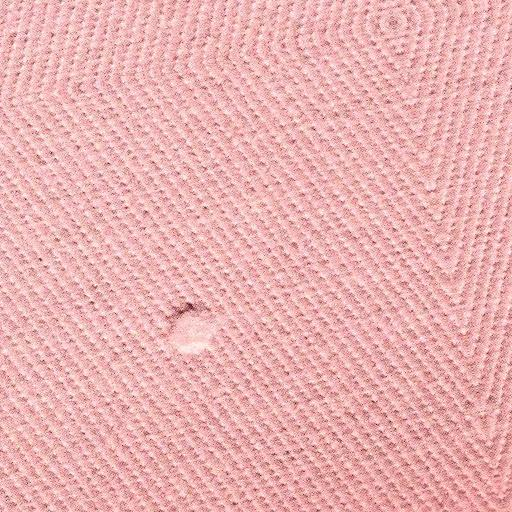knot: (159, 300, 225, 362)
